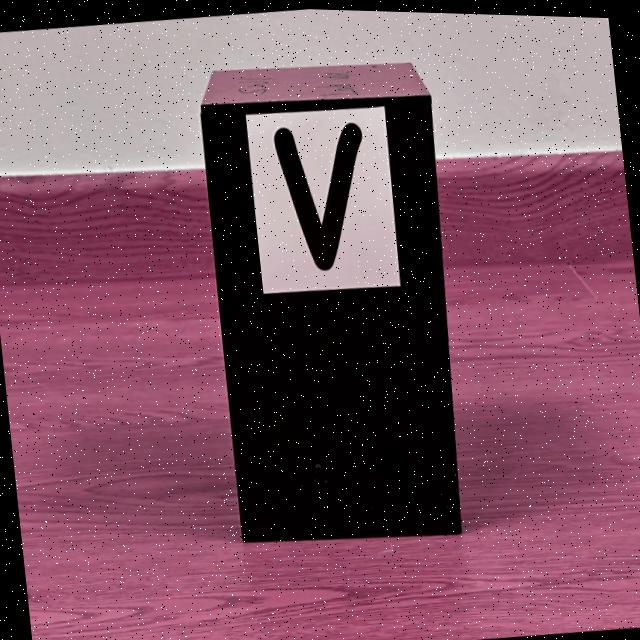V: (273, 120, 361, 268)
